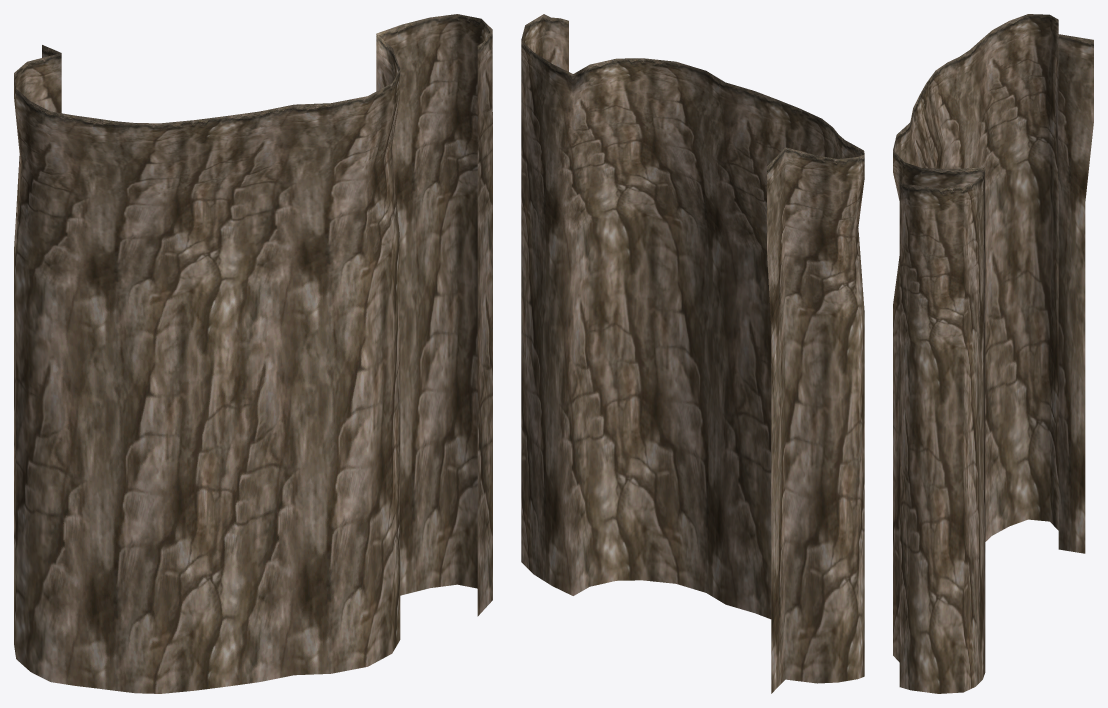
Rendered from OVERHILL_A_01_LINE105.fbx.
The picture shows the model from 3 angles, left to right: view 1: azimuth 30°, elevation 25°; view 2: azimuth 150°, elevation 25°; view 3: azimuth 270°, elevation 25°; orthographic projection. The views are drawn at different scales.
Visible parts, largest first — view 1: OVERHILL_A_01_LINE105; view 2: OVERHILL_A_01_LINE105; view 3: OVERHILL_A_01_LINE105.
Boxes of the visible parts, x1,y1,x2,y2 form: OVERHILL_A_01_LINE105: (14,14,492,693); OVERHILL_A_01_LINE105: (521,14,864,693); OVERHILL_A_01_LINE105: (893,14,1093,693).
Size of the model in its own units: 168440 by 231756 by 79707.
2 materials, 2 textured.
